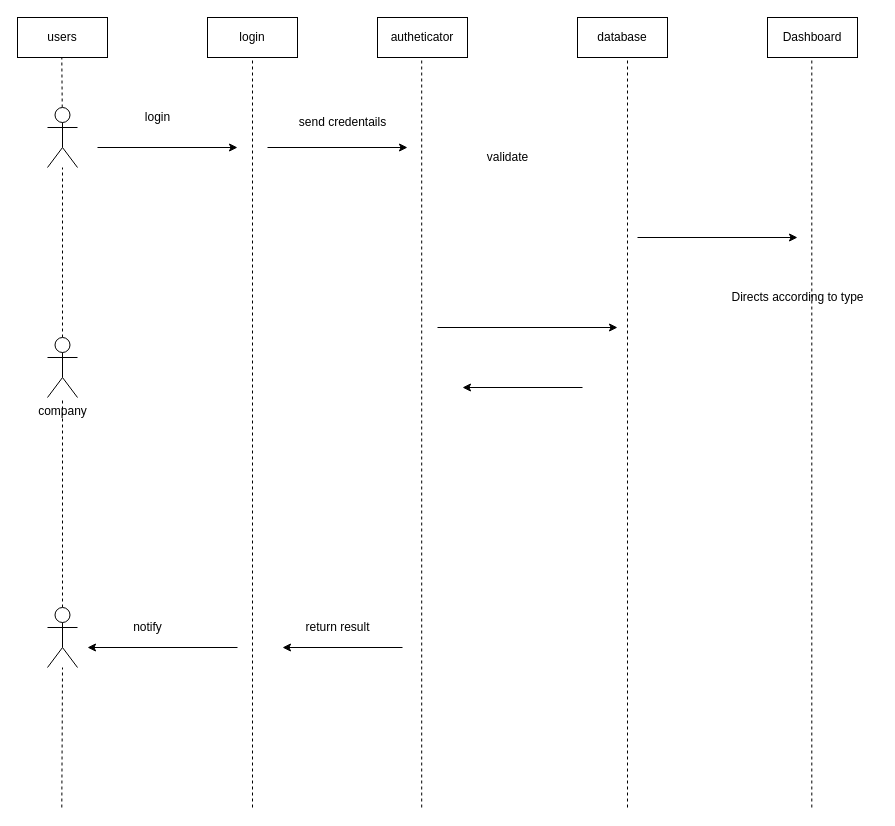
Some shapes in this 895 by 826 pixel diagram are drawn without their labels. Here are the shapes that lost their labels. From the top down, the box of each, then its label:
(46, 106, 78, 168): customer
(46, 606, 78, 668): owner
